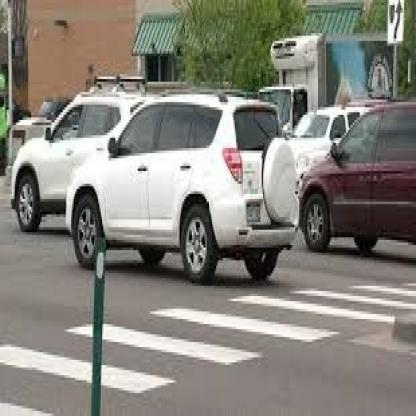Crosswalk: (0, 283, 416, 410)
